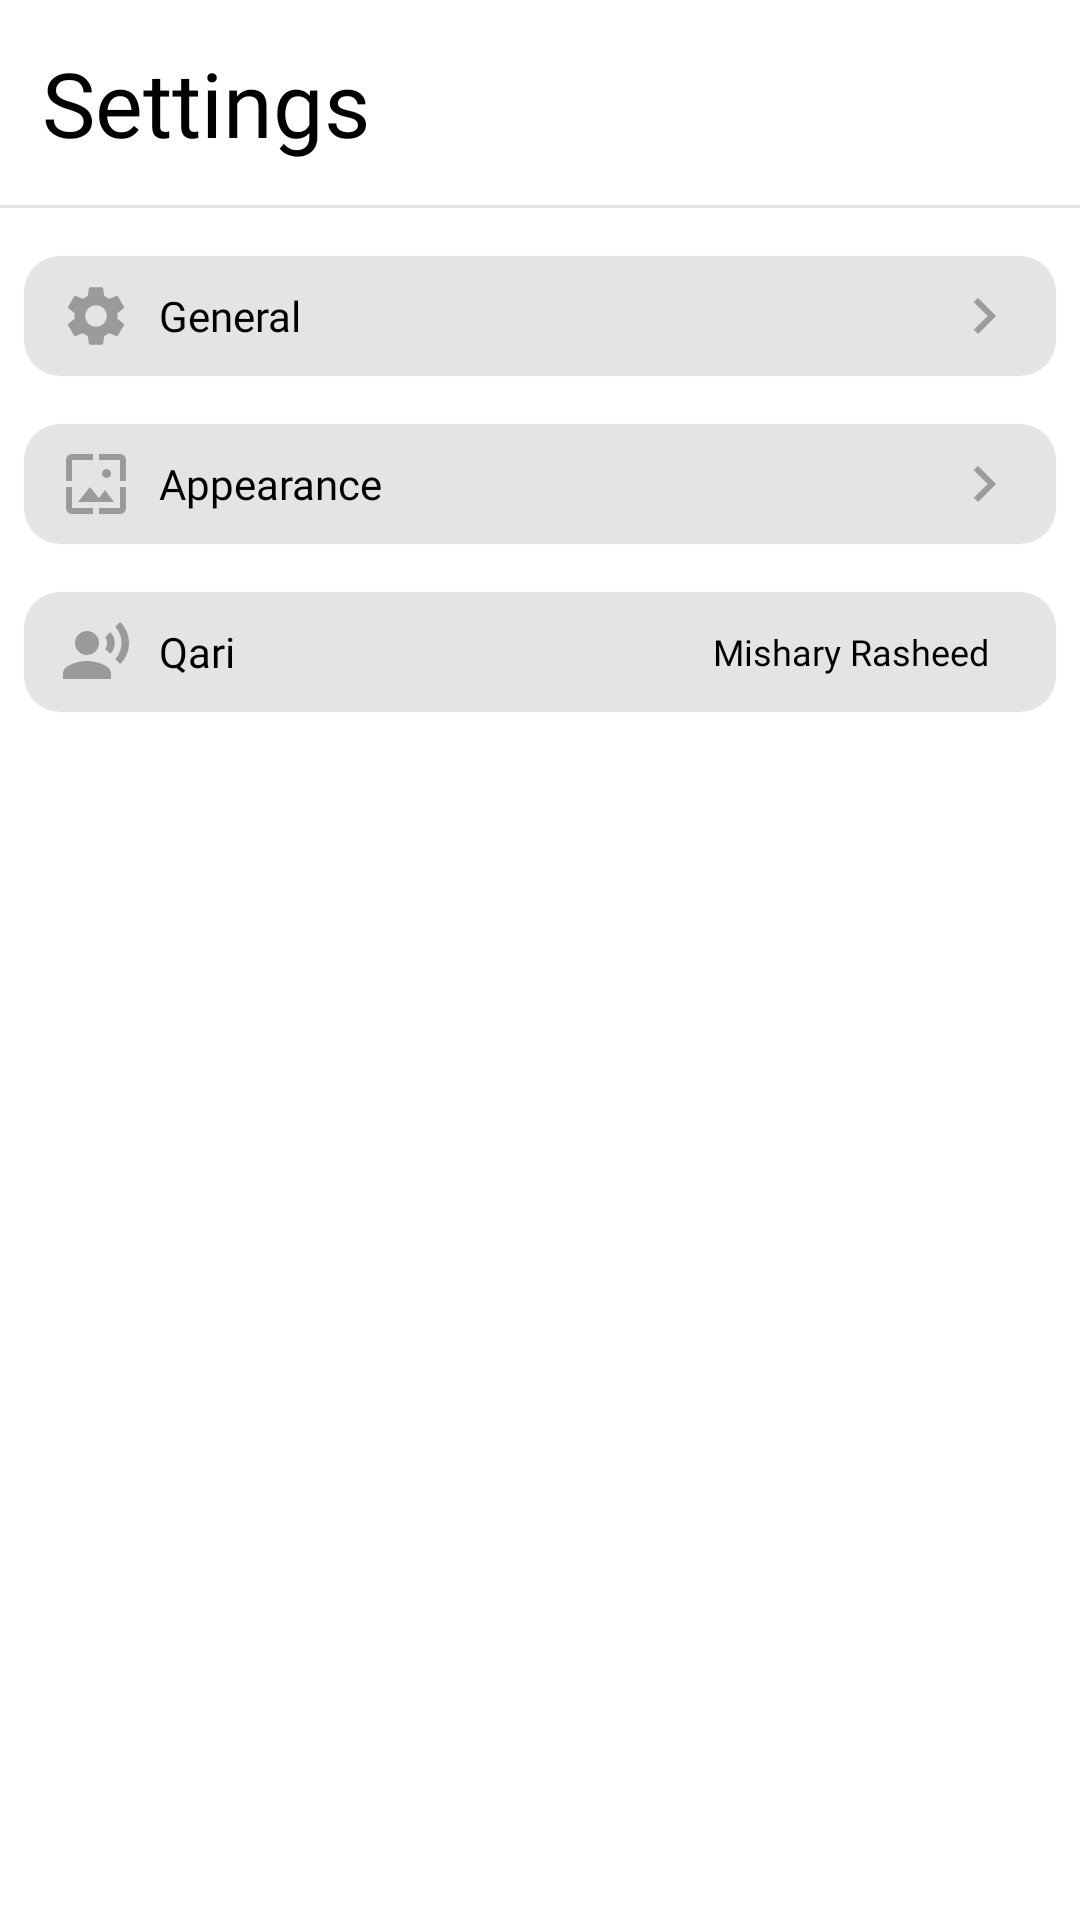

Named icons in this screenshot (1080x1920) and their centers, (x=x, y=y):
keyboard arrow right: (x=985, y=316), (x=985, y=484)
record voice over: (x=96, y=650)
